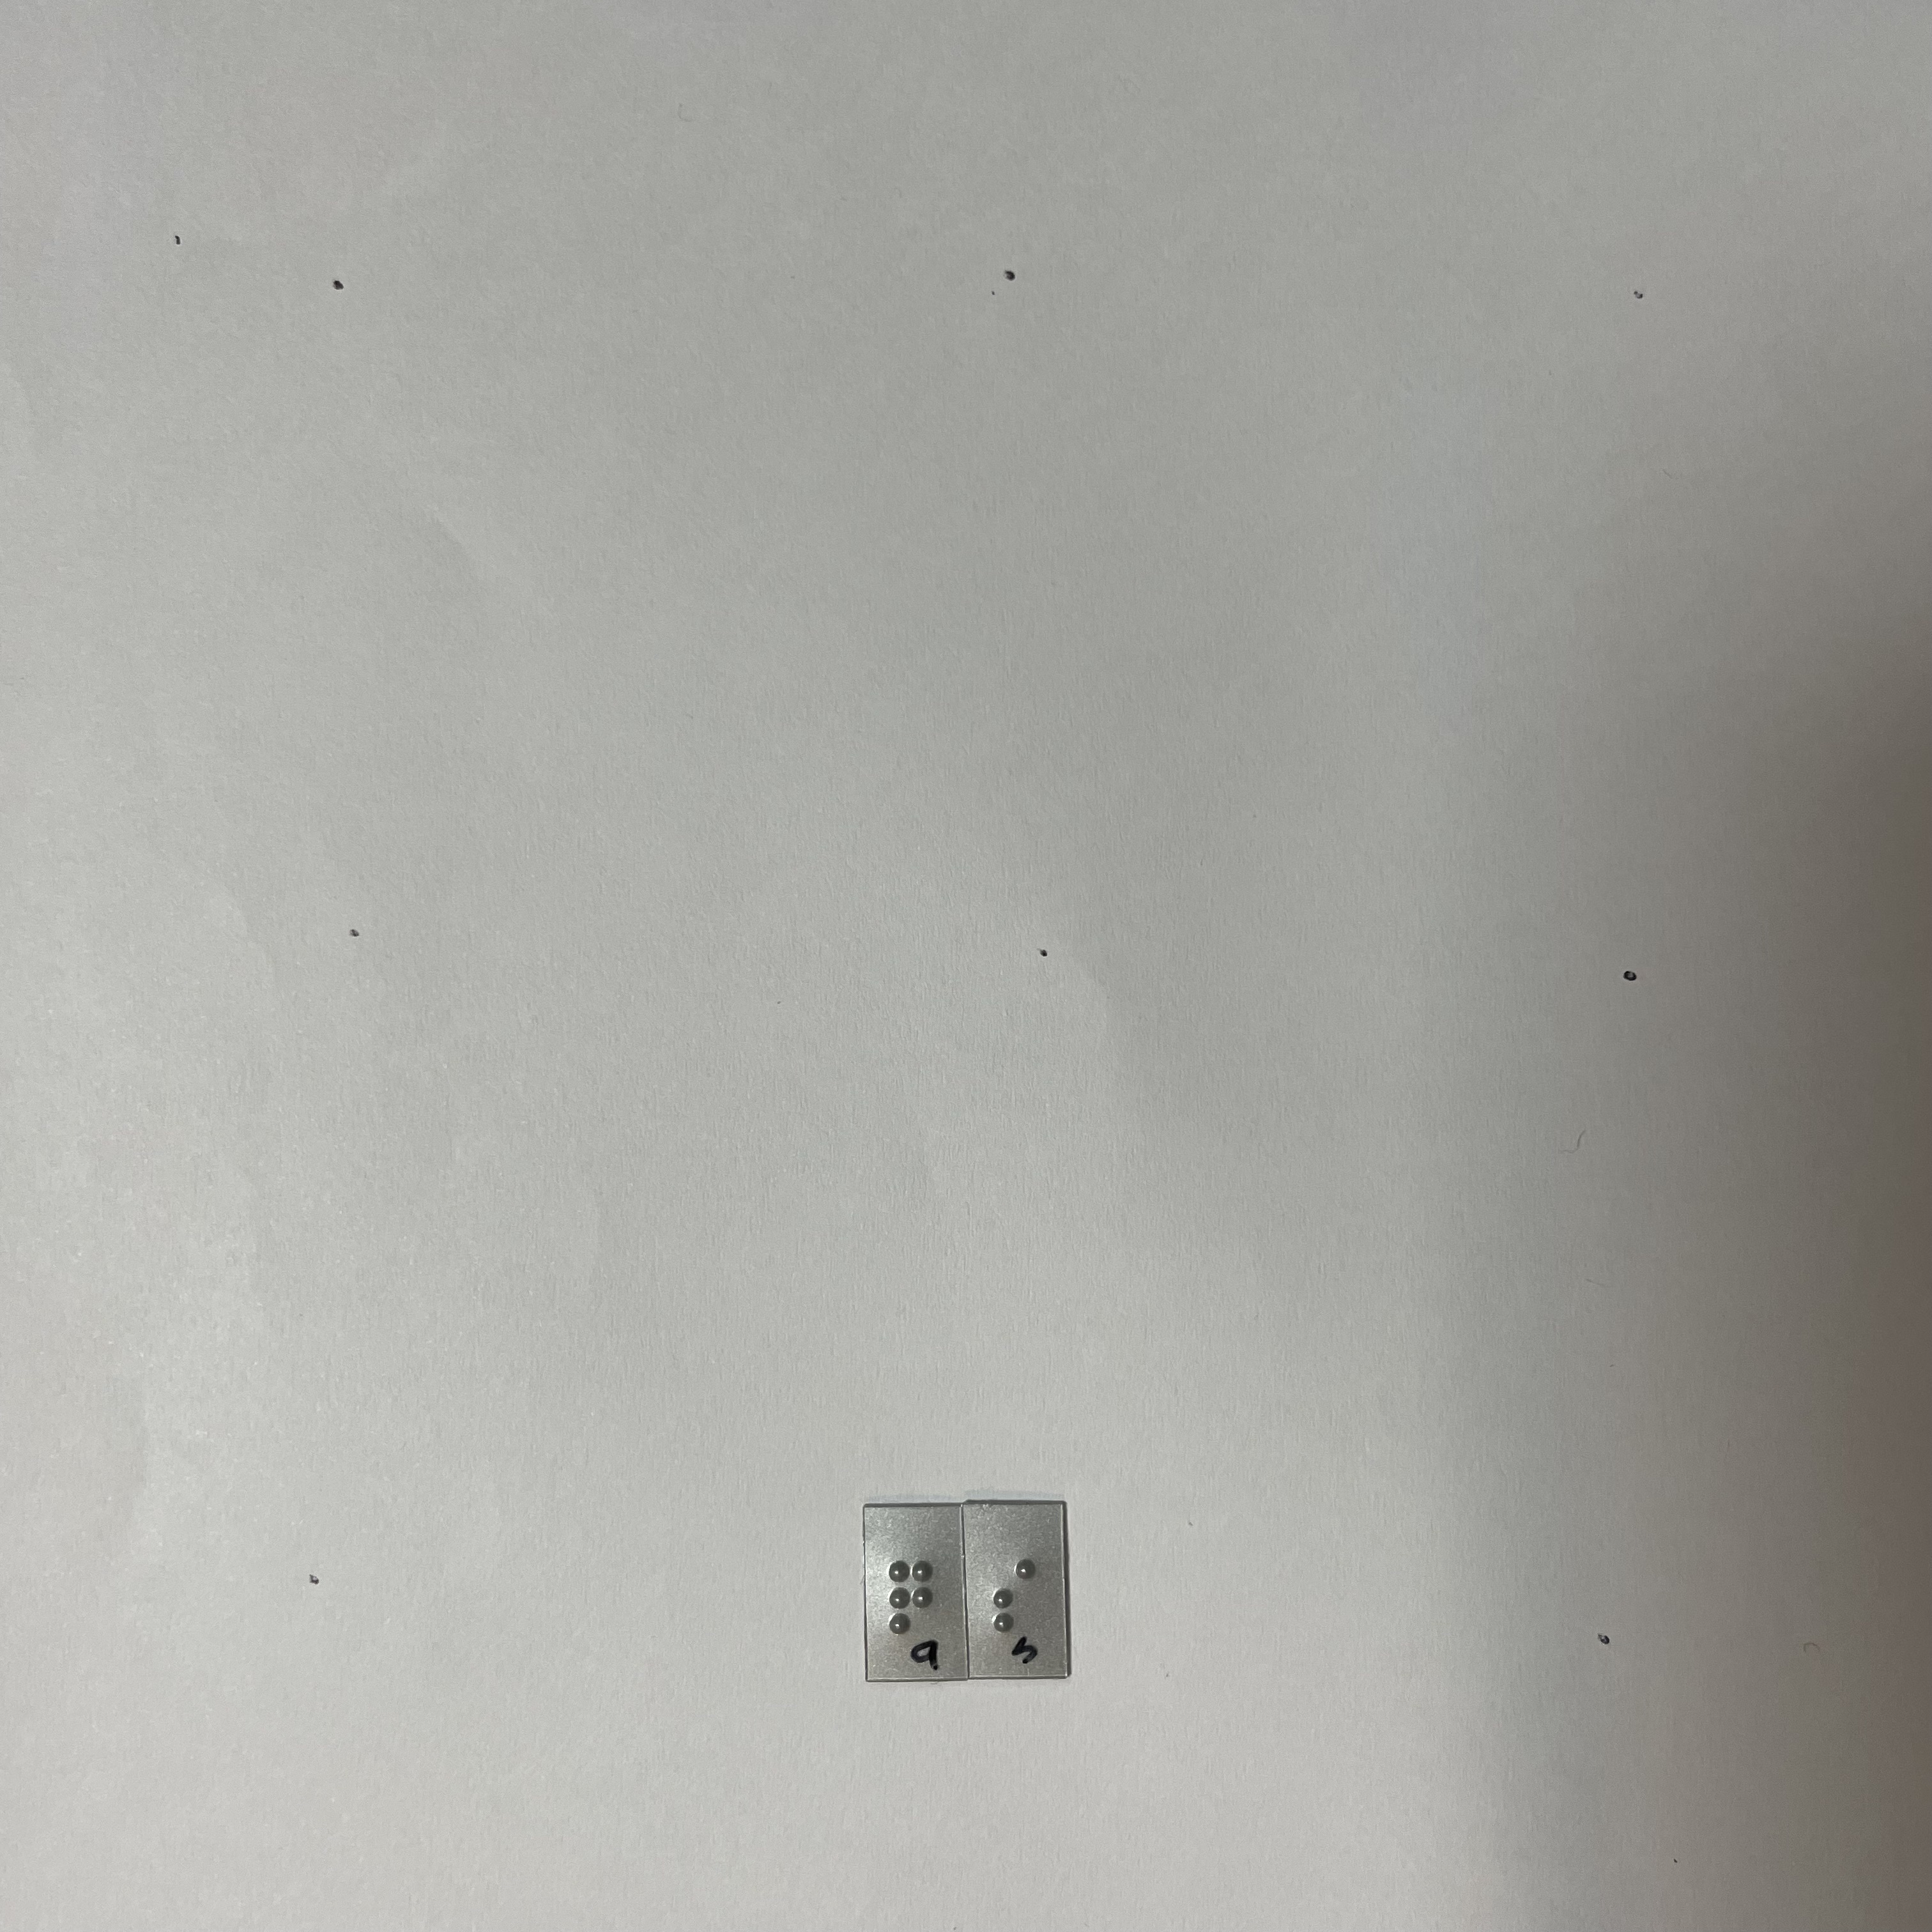q: (884, 1553, 941, 1639)
s: (990, 1553, 1043, 1632)
